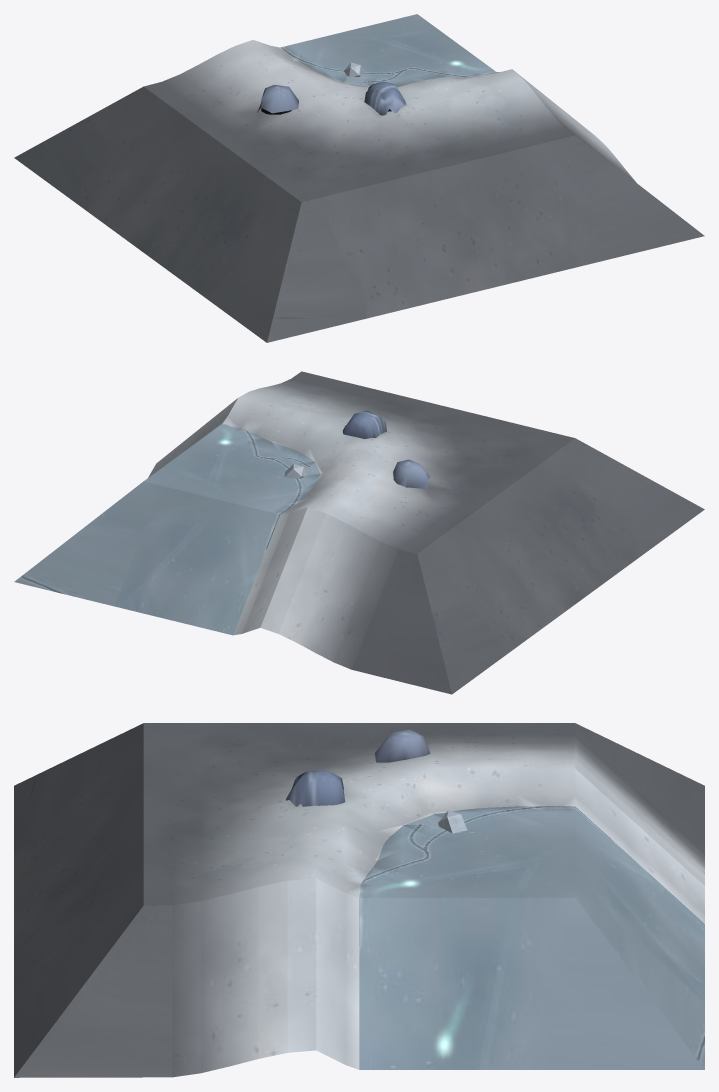
The model's file is helheim_gjoll_corner_ice.glb.
3 views of the same model, one above another, from view 1: azimuth 30°, elevation 25°; view 2: azimuth 150°, elevation 25°; view 3: azimuth 270°, elevation 25° (orthographic). The views are drawn at different scales.
Parts seen in each view (by area): view 1: helheim_gjoll_corner_ice; view 2: helheim_gjoll_corner_ice; view 3: helheim_gjoll_corner_ice.
Part boxes in pixels (<box>): helheim_gjoll_corner_ice: <box>14,14,704,342</box>; helheim_gjoll_corner_ice: <box>14,371,704,694</box>; helheim_gjoll_corner_ice: <box>14,723,704,1077</box>.
Size of the model in its own units: 1.6 by 0.423 by 1.6.
Materials: 4 (4 with a texture image).
